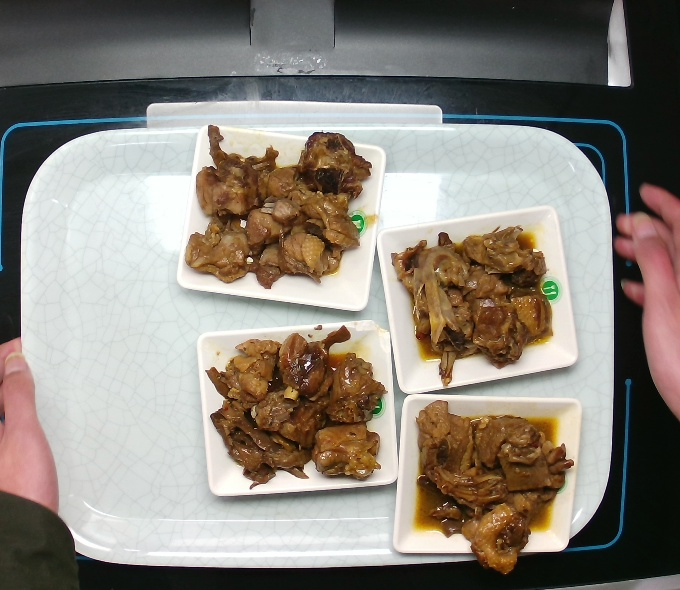wcq-HongShaoJi: (171, 102, 380, 295), (194, 313, 395, 496), (414, 390, 587, 579), (385, 207, 565, 387)
